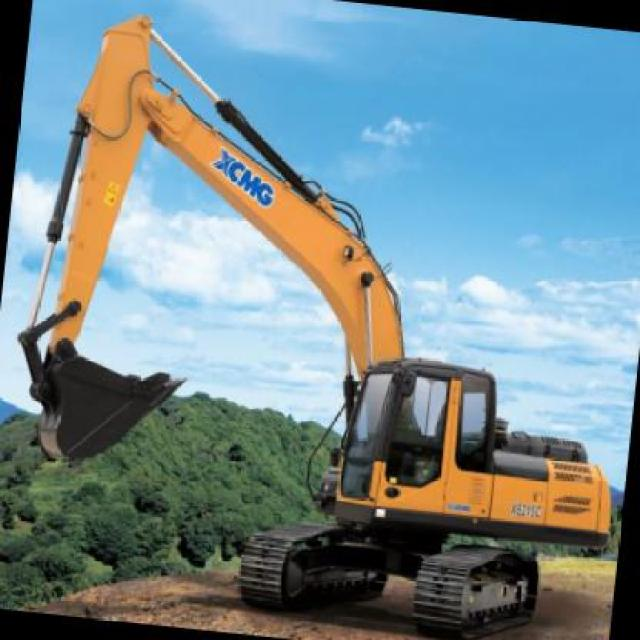excavator: (17, 14, 615, 640)
